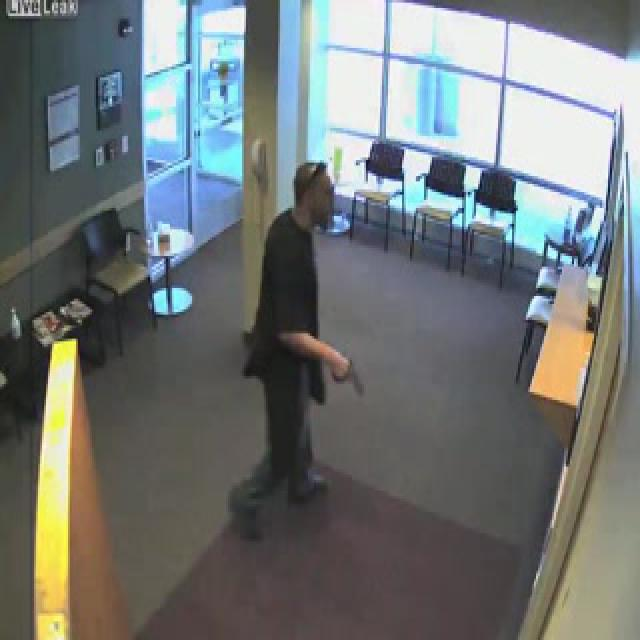Gun: (330, 349, 360, 392)
